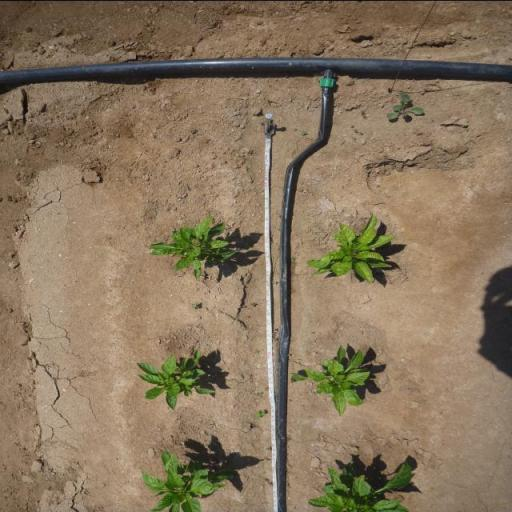plant: (304, 210, 398, 284), (136, 444, 238, 512), (146, 212, 240, 282), (304, 455, 416, 512), (290, 343, 370, 417), (133, 348, 218, 410)
weed: (386, 88, 426, 122), (254, 409, 266, 418), (189, 301, 200, 309), (254, 390, 264, 396), (361, 109, 366, 119), (252, 348, 260, 354), (265, 446, 271, 451), (353, 128, 359, 133), (301, 130, 307, 135), (250, 302, 257, 306), (292, 256, 298, 260)
